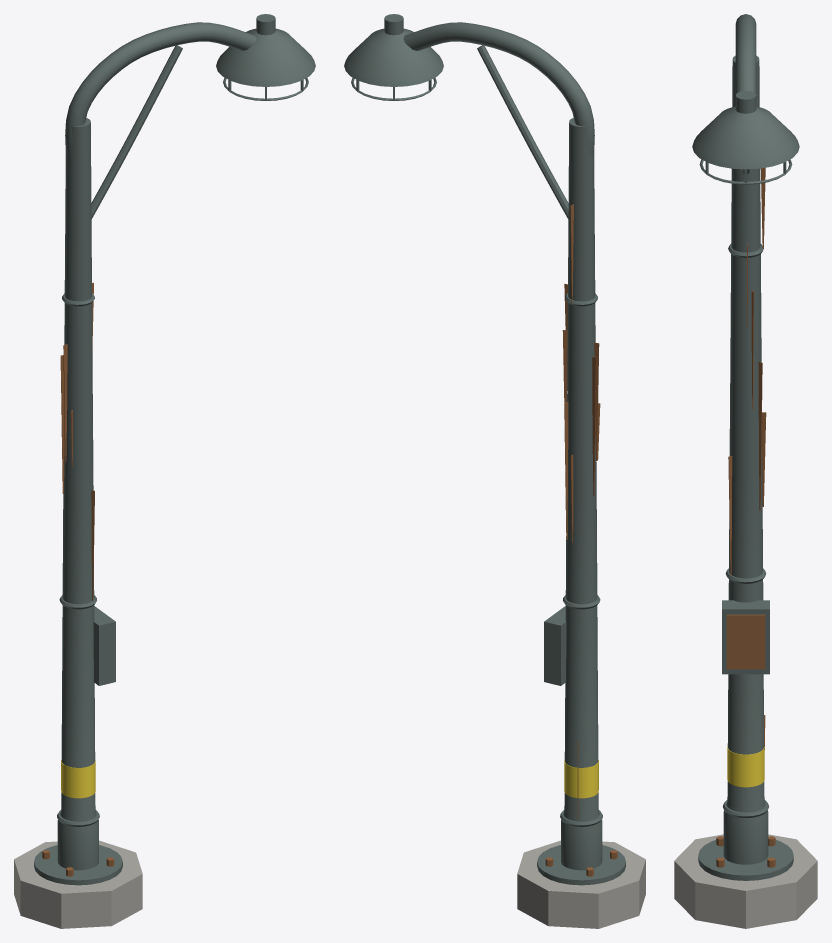
File: SM_StreetLamp.fbx
The picture shows the model from 3 angles, left to right: view 1: azimuth 30°, elevation 25°; view 2: azimuth 150°, elevation 25°; view 3: azimuth 270°, elevation 25°; orthographic projection. The views are drawn at different scales.
Parts seen in each view (by area): view 1: SM_StreetLamp; view 2: SM_StreetLamp; view 3: SM_StreetLamp.
Boxes of the visible parts, bbox=[...] form: SM_StreetLamp: bbox=[14, 14, 315, 928]; SM_StreetLamp: bbox=[344, 14, 645, 928]; SM_StreetLamp: bbox=[674, 14, 817, 928].
Size of the model in its own units: 1.2 by 3.38 by 0.48.
